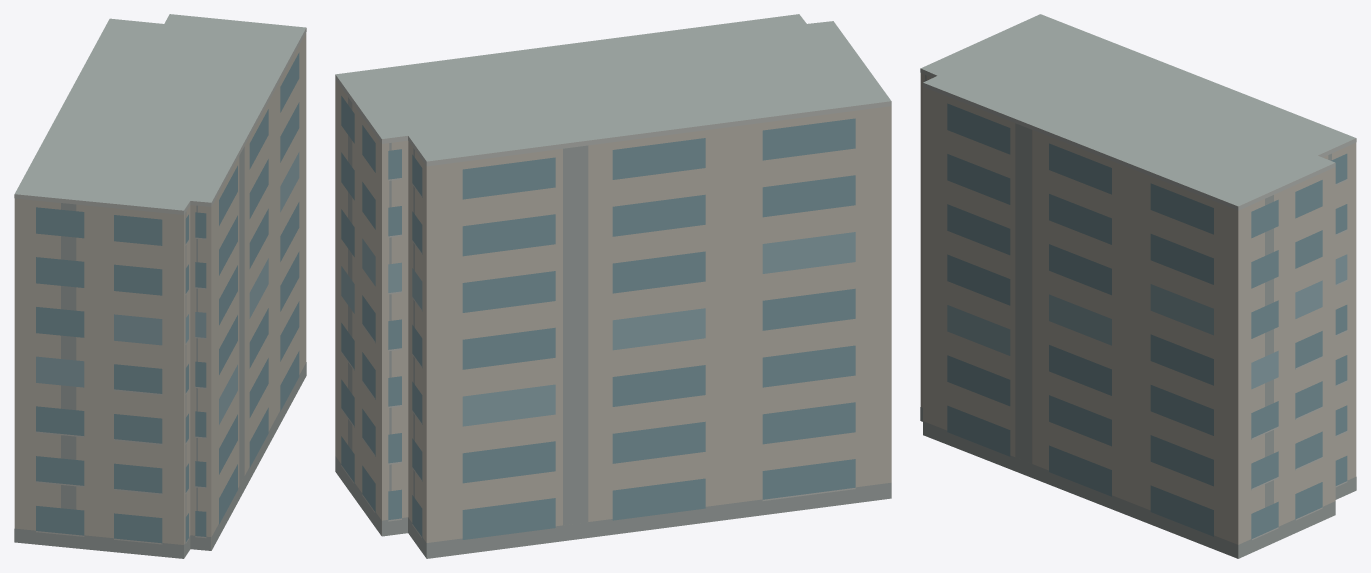
The model's file is survey-upis-32761246.glb.
3 renders of one model, left to right at view 1: azimuth 30°, elevation 25°; view 2: azimuth 150°, elevation 25°; view 3: azimuth 270°, elevation 25°, orthographic. The views are drawn at different scales.
Parts seen in each view (by area): view 1: survey-upis-32761246.tmp; view 2: survey-upis-32761246.tmp; view 3: survey-upis-32761246.tmp.
Part boxes in pixels (x1,y1,x2,y2): survey-upis-32761246.tmp: (14, 14, 306, 558); survey-upis-32761246.tmp: (335, 14, 891, 558); survey-upis-32761246.tmp: (920, 14, 1356, 558).
Bounding box in the file's own units: 23.31 × 19.9 × 22.32.
